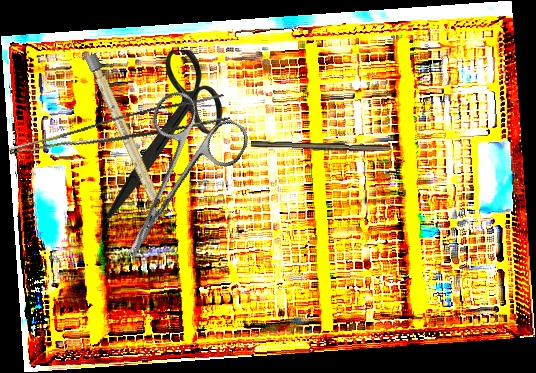Iris Scissors: (84, 84, 255, 280), (104, 50, 223, 218)
Scalpel Handle: (84, 52, 169, 222), (250, 140, 391, 154)
Tissue Forceps: (8, 87, 231, 180)
